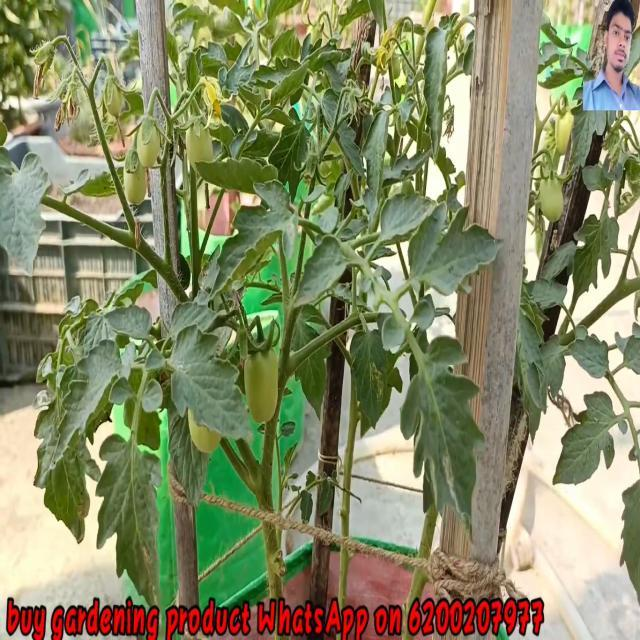Tomato healthy leaf: (144, 322, 254, 447), (49, 336, 124, 469), (412, 198, 507, 296), (552, 389, 616, 487), (293, 232, 349, 312), (572, 214, 618, 304), (566, 333, 610, 380)
Tomato target spot leaf: (400, 334, 488, 545), (95, 430, 164, 604), (350, 326, 390, 432)
